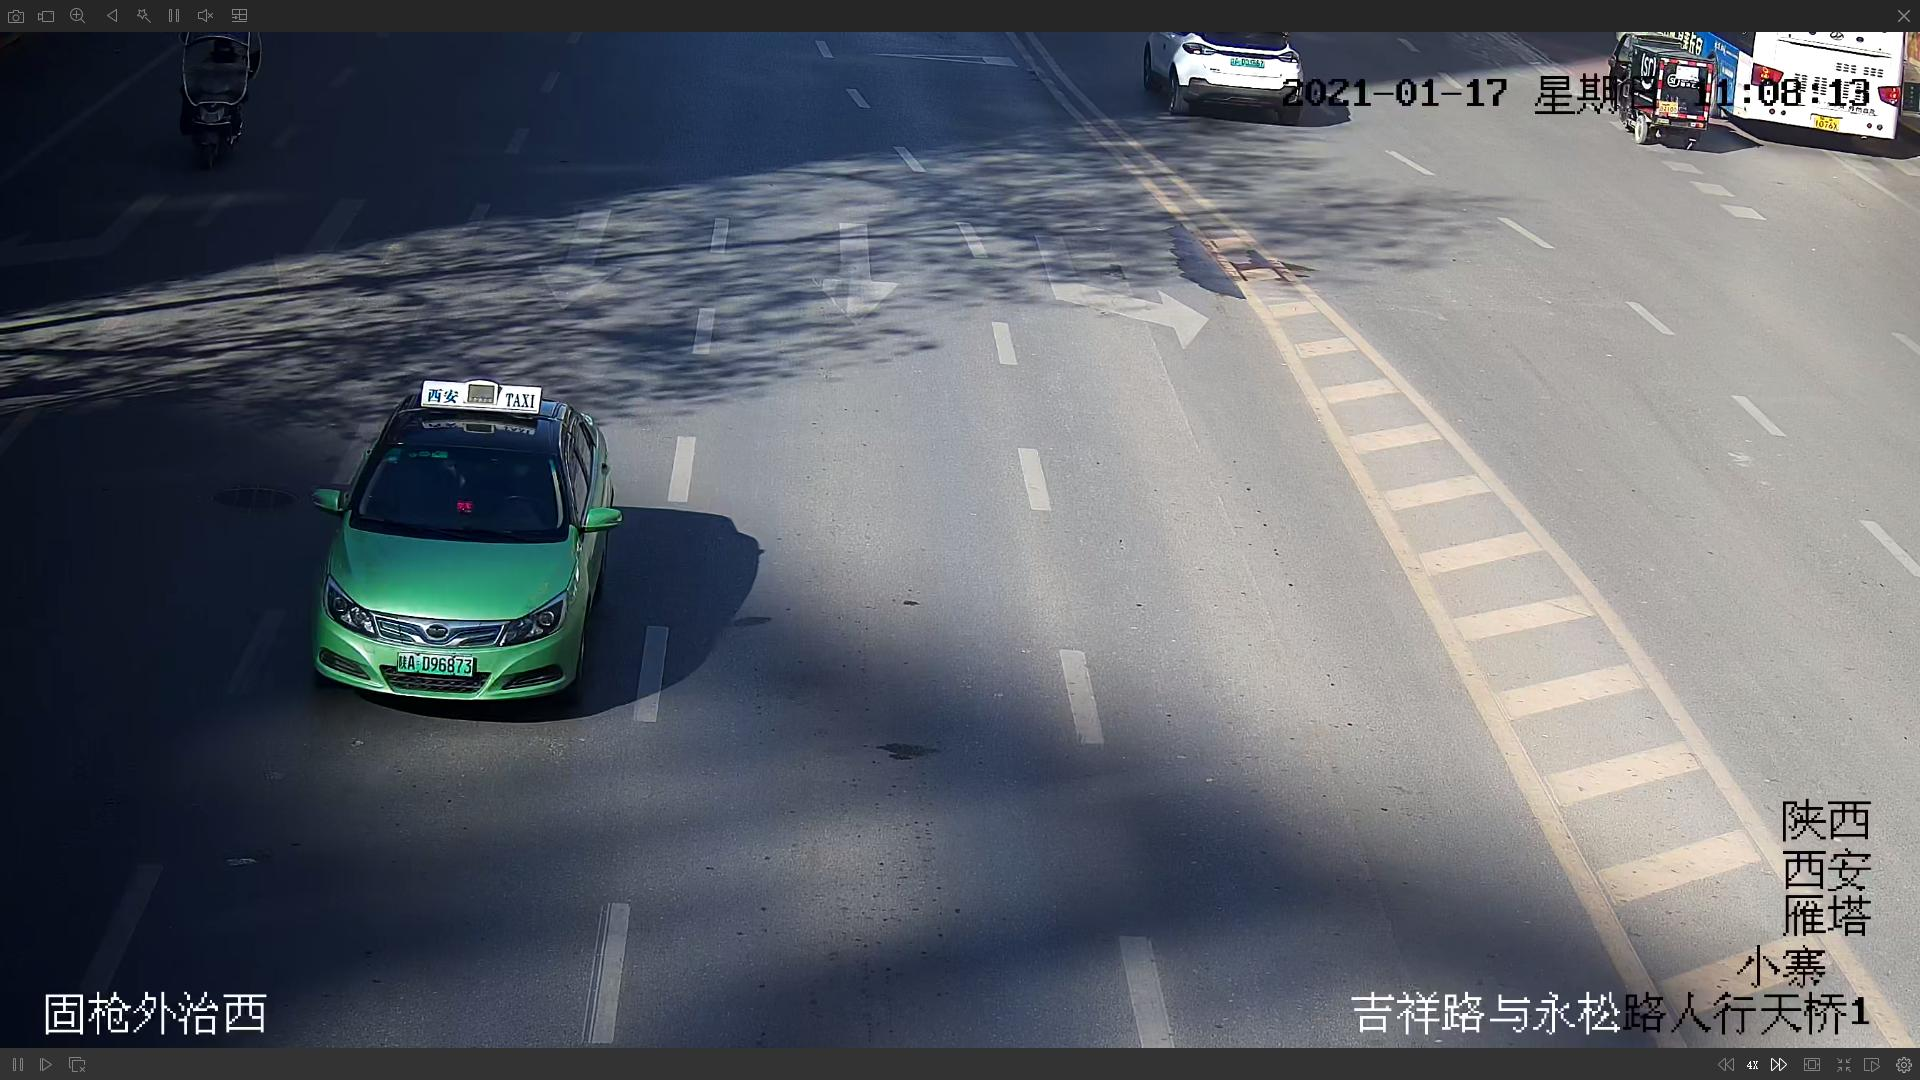grass-green: (305, 381, 621, 713)
